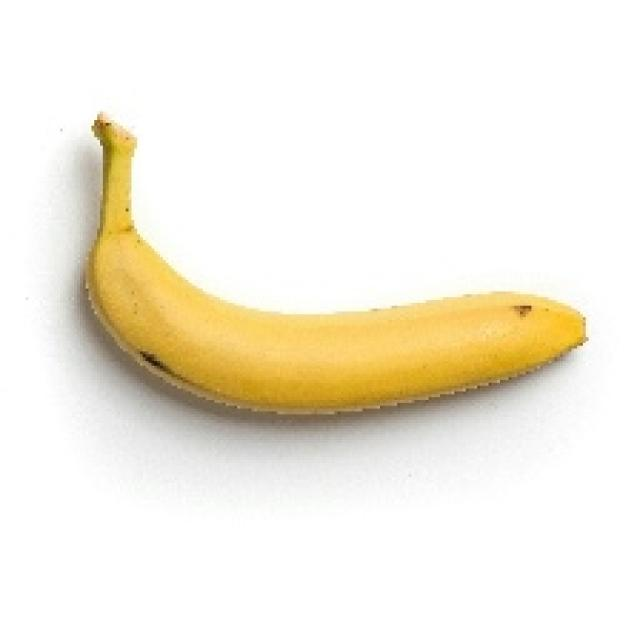Banana: (80, 109, 586, 414)
